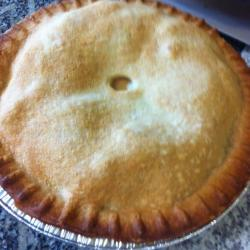apple_pie: (3, 5, 243, 236)
